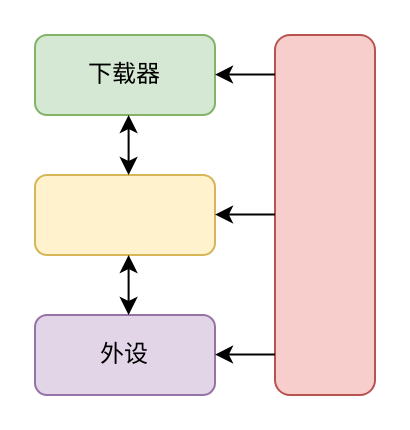
This 410x430 diagram has some shape labels left out. Here are the shapes that lost their labels. From the top down, the centre of each, then its label:
At point 124,214: "FPGA最小系统".
At point 324,214: "电源".
